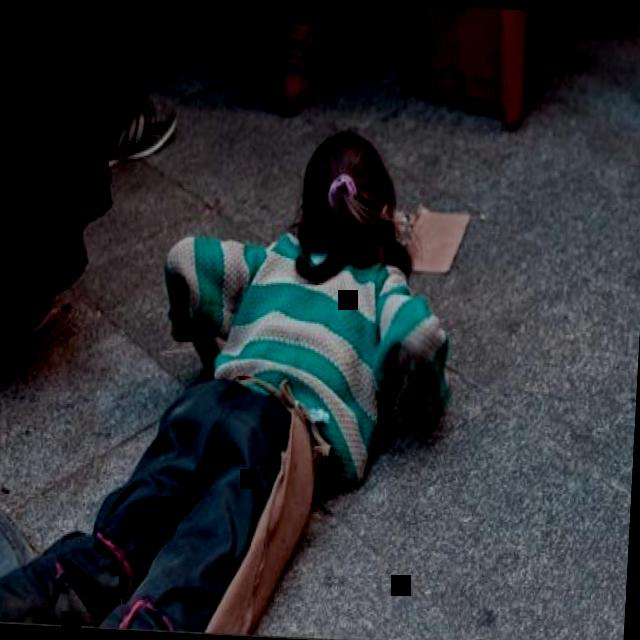Fall-Detected: (0, 101, 478, 640)
